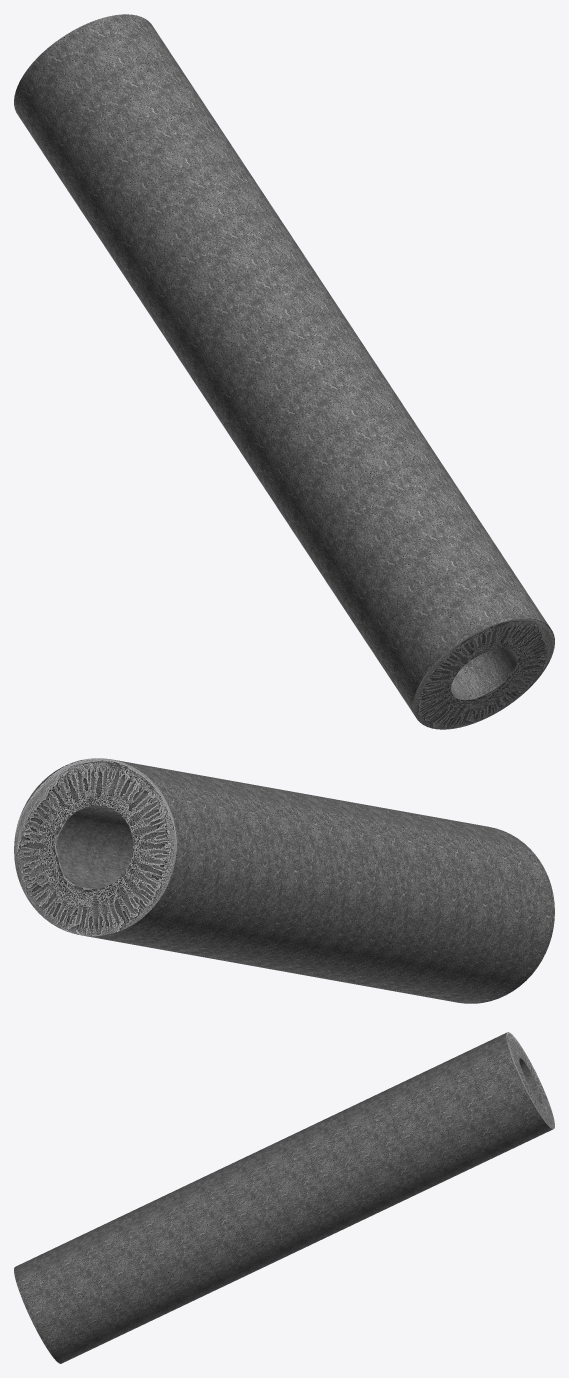
The model's file is membrana.glb.
The picture shows the model from 3 angles, top to bottom: view 1: azimuth 30°, elevation 25°; view 2: azimuth 150°, elevation 25°; view 3: azimuth 270°, elevation 25°; orthographic projection. The views are drawn at different scales.
Visible parts, largest first — view 1: Tube - baked 2, Tube - baked; view 2: Tube - baked 2, Tube - baked 1; view 3: Tube - baked 2, Tube - baked 1.
Boxes of the visible parts, x1,y1,x2,y2 form: Tube - baked 2: (14,14,549,716); Tube - baked: (413,618,554,729); Tube - baked 2: (57,759,554,1003); Tube - baked 1: (14,758,176,936); Tube - baked 2: (14,1032,552,1363); Tube - baked 1: (506,1032,554,1129).
Bounding box in the file's own units: 0.1801 × 0.4811 × 0.7554.
3 materials, 3 textured.
